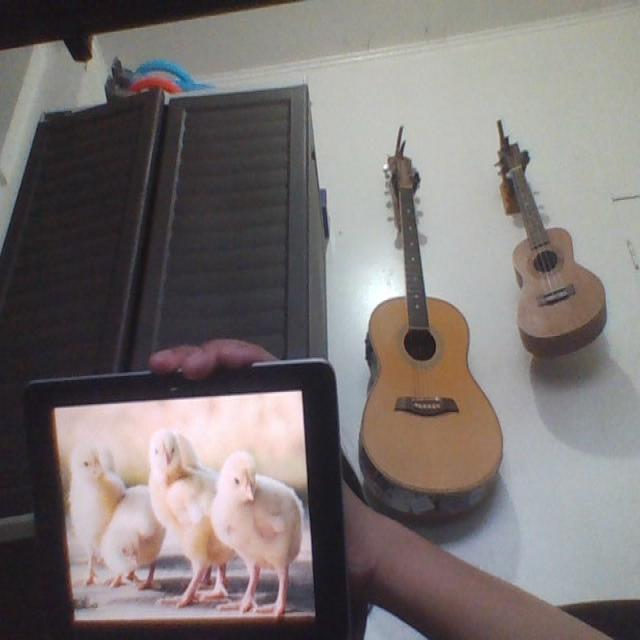Healthy: (216, 454, 302, 613), (149, 430, 226, 606), (64, 444, 115, 541)
Sick: (103, 491, 166, 598)
